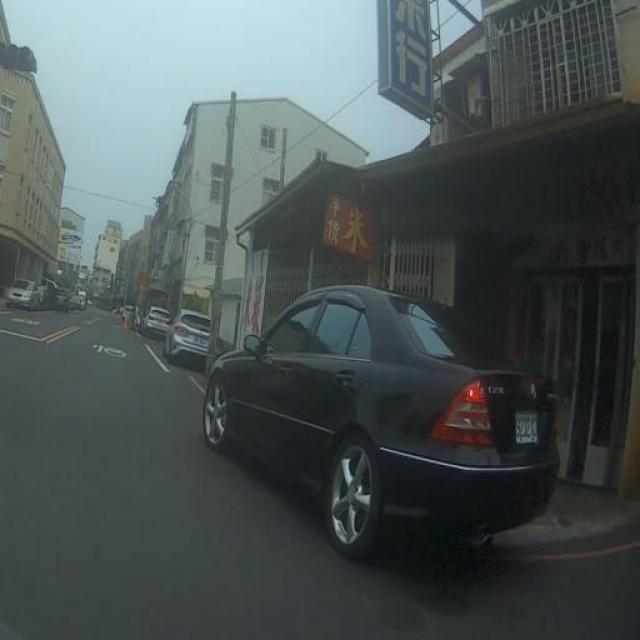Legalparking: (132, 308, 208, 360), (6, 280, 69, 309)
illegalparking: (202, 286, 558, 555)
